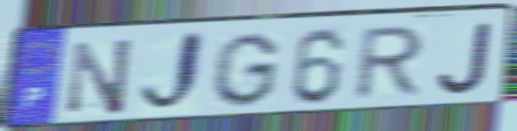6: (289, 24, 347, 109)
G: (208, 31, 283, 110)
J: (137, 28, 207, 119), (434, 19, 497, 98)
N: (65, 35, 136, 117)
R: (350, 23, 430, 103)
